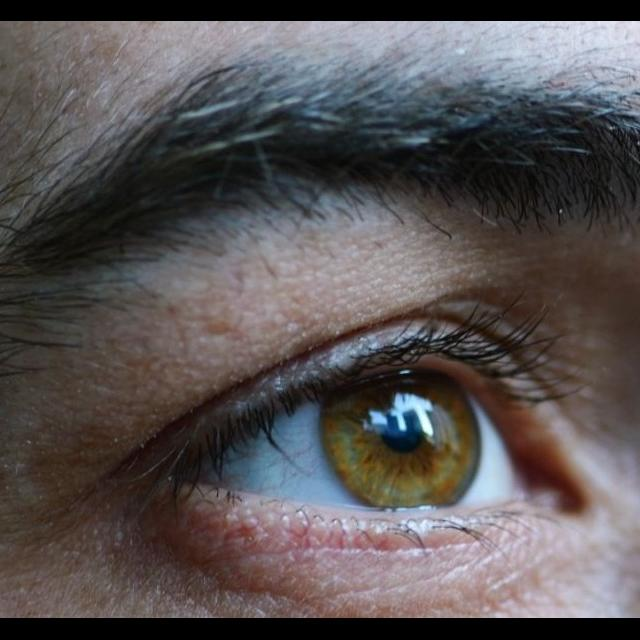eye: (181, 366, 523, 517)
iris: (318, 372, 481, 514)
